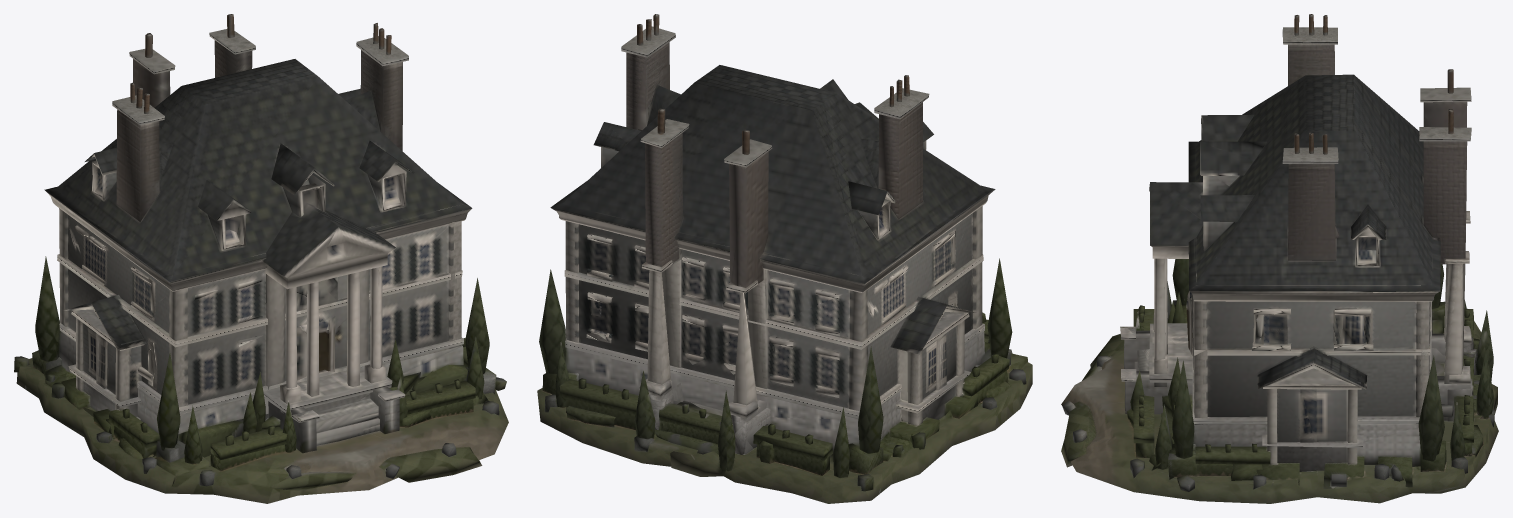
Rendered from Meshy_AI_upper_house_1_texture_0921204739_texture.glb.
3 views of the same model, side by side, from view 1: azimuth 30°, elevation 25°; view 2: azimuth 150°, elevation 25°; view 3: azimuth 270°, elevation 25° (orthographic). The views are drawn at different scales.
Size of the model in its own units: 2 by 1.74 by 2.
1 material, 1 textured.
